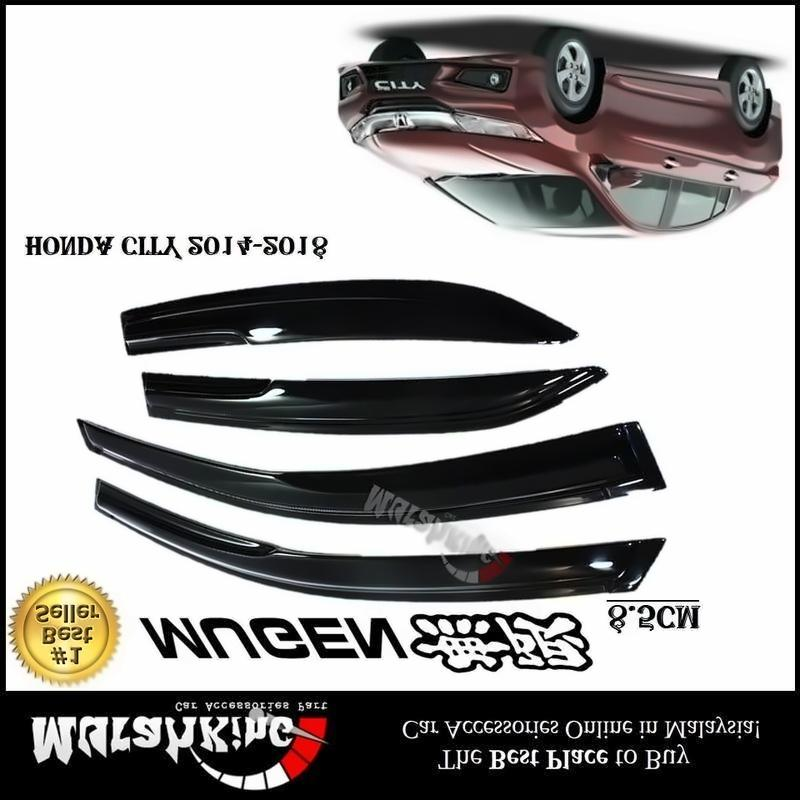Car hood: (357, 127, 581, 180)
Driver-s door - -F-R-: (585, 58, 692, 238)
Fender - -F-R-: (527, 97, 613, 179)
Front bumper: (336, 43, 548, 133)
Headlight - -L-: (349, 116, 374, 145)
Headlight - -R-: (453, 111, 545, 142)
Passenger-s door - -R-R-: (660, 61, 736, 240)
Side bumper - -R-: (602, 60, 732, 116)
Side mirror - -R-: (588, 160, 642, 191)
